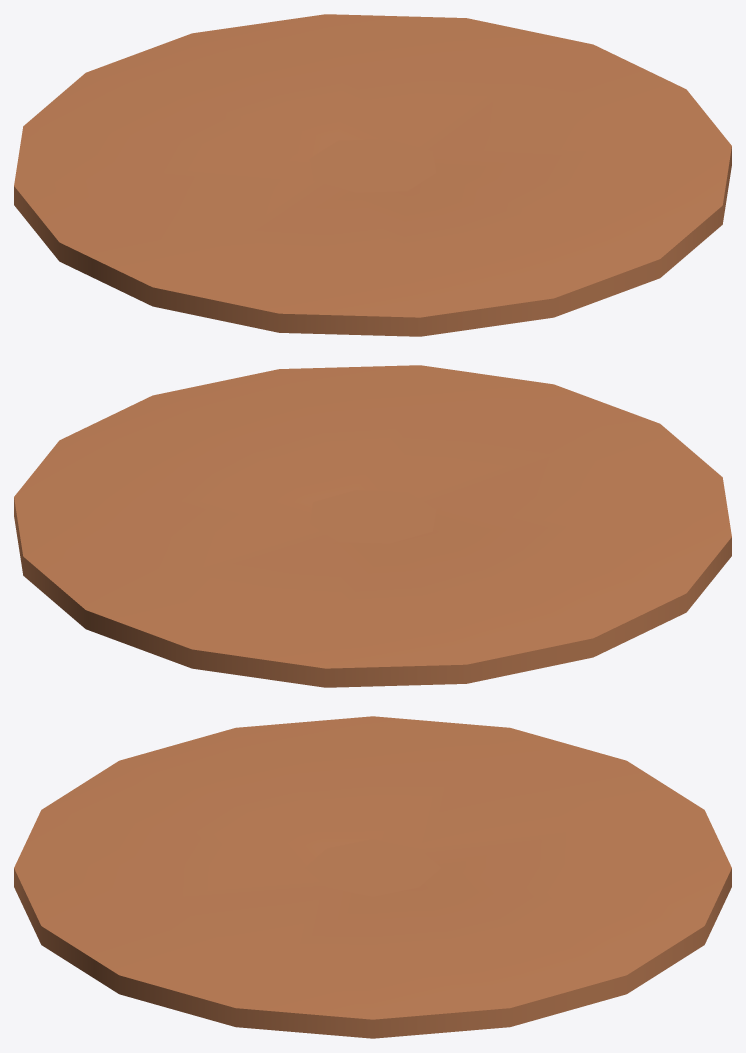
File: coin.fbx
The picture shows the model from 3 angles, top to bottom: view 1: azimuth 30°, elevation 25°; view 2: azimuth 150°, elevation 25°; view 3: azimuth 270°, elevation 25°; orthographic projection.
Parts seen in each view (by area): view 1: bronze_coin; view 2: bronze_coin; view 3: bronze_coin.
Boxes of the visible parts, left/top/right/bottom form: bronze_coin: left=14, top=14, right=731, bottom=336; bronze_coin: left=14, top=365, right=731, bottom=687; bronze_coin: left=14, top=716, right=731, bottom=1038.
Bounding box in the file's own units: 6.47 × 0.2593 × 6.47.
